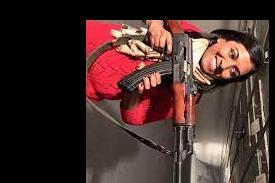larga: (117, 20, 197, 183)
